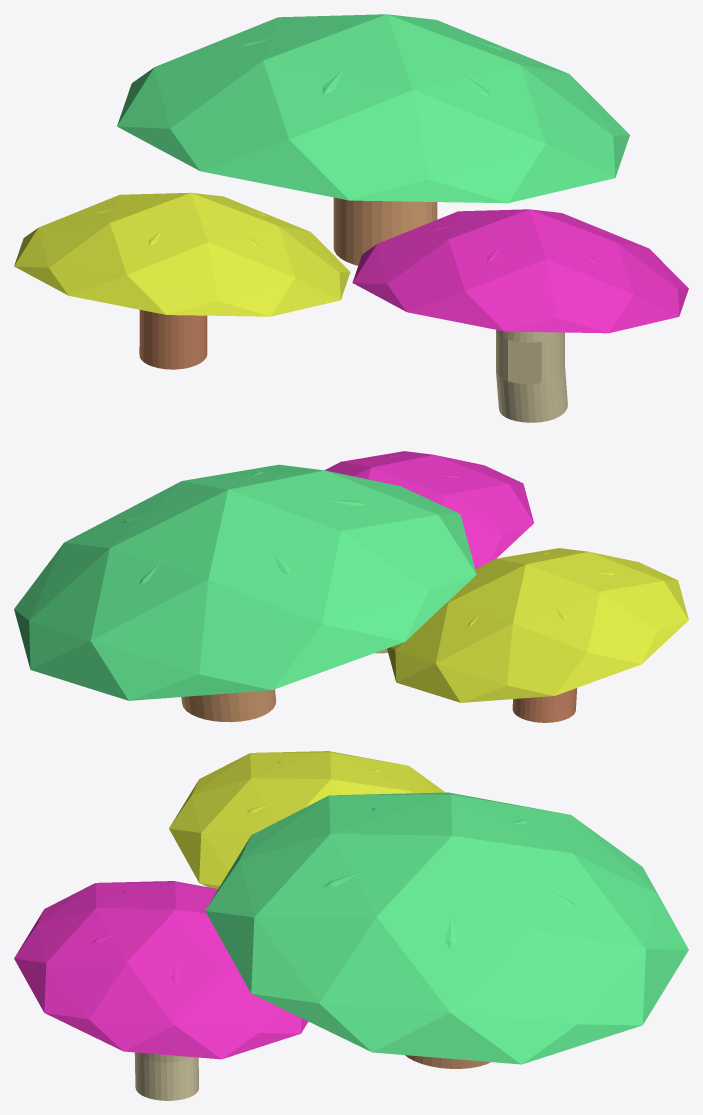
File: cocumeloscluster.fbx
The picture shows the model from 3 angles, top to bottom: view 1: azimuth 30°, elevation 25°; view 2: azimuth 150°, elevation 25°; view 3: azimuth 270°, elevation 25°; orthographic projection. The views are drawn at different scales.
Parts seen in each view (by area): view 1: Esfera icosaédrica, Esfera icosaédrica.002, Esfera icosaédrica.001, Cilindro.001, Cilindro, Cilindro.002; view 2: Esfera icosaédrica, Esfera icosaédrica.002, Esfera icosaédrica.001, Cilindro, Cilindro.002; view 3: Esfera icosaédrica, Esfera icosaédrica.001, Esfera icosaédrica.002, Cilindro.001, Cilindro.
Boxes of the visible parts, box(x1,y1,x2,y2) form: Esfera icosaédrica: box(117, 14, 629, 203); Esfera icosaédrica.002: box(14, 192, 350, 316); Esfera icosaédrica.001: box(352, 209, 688, 333); Cilindro.001: box(496, 330, 567, 422); Cilindro: box(333, 197, 437, 265); Cilindro.002: box(139, 310, 207, 369); Esfera icosaédrica: box(14, 464, 476, 700); Esfera icosaédrica.002: box(387, 548, 688, 702); Esfera icosaédrica.001: box(325, 451, 533, 568); Cilindro: box(181, 689, 276, 722); Cilindro.002: box(512, 688, 577, 722); Esfera icosaédrica: box(205, 792, 688, 1064); Esfera icosaédrica.001: box(14, 881, 308, 1059); Esfera icosaédrica.002: box(169, 751, 445, 888); Cilindro.001: box(134, 1052, 198, 1100); Cilindro: box(405, 1055, 490, 1068).
Size of the model in its own units: 578 by 250 by 598.
